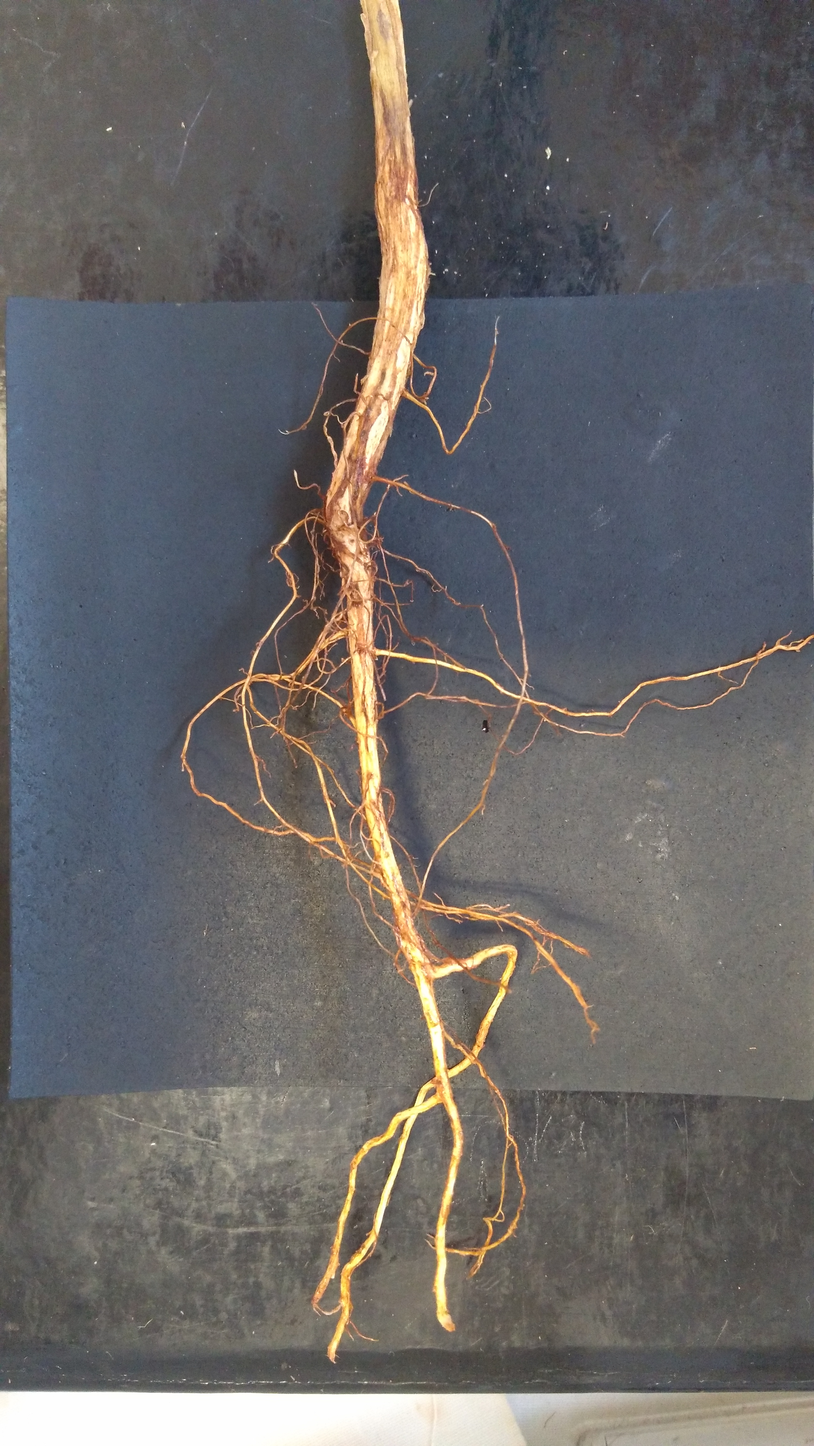nodule: (340, 583, 356, 597), (351, 589, 364, 603), (360, 374, 369, 386), (402, 480, 410, 487), (338, 569, 344, 577), (323, 411, 331, 416)
